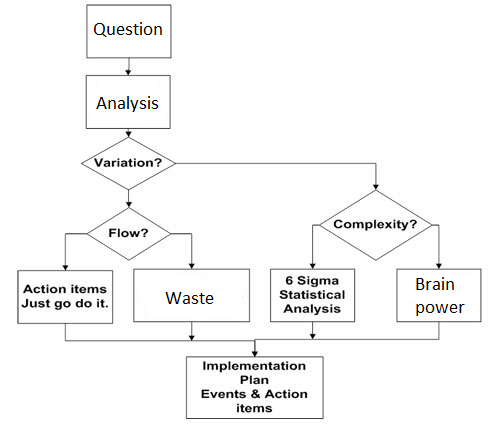arrow: (251, 324, 441, 357), (64, 323, 259, 355), (173, 161, 378, 189), (61, 232, 92, 271), (169, 231, 195, 270), (431, 223, 442, 269), (308, 223, 318, 269), (187, 321, 196, 341), (308, 323, 316, 341), (126, 190, 132, 209), (125, 58, 131, 75), (124, 128, 133, 138)
decision: (319, 189, 432, 261), (81, 137, 176, 190), (87, 207, 171, 261)
process: (184, 354, 326, 420), (132, 267, 251, 323), (15, 268, 115, 326), (83, 73, 172, 130), (85, 3, 173, 59), (268, 267, 356, 323), (395, 268, 483, 323)
text: (201, 360, 310, 414), (279, 275, 347, 317), (21, 281, 108, 311), (415, 275, 466, 318), (92, 21, 164, 39), (333, 217, 418, 232), (95, 95, 158, 112), (164, 288, 215, 309), (94, 155, 163, 170), (106, 226, 149, 239)
